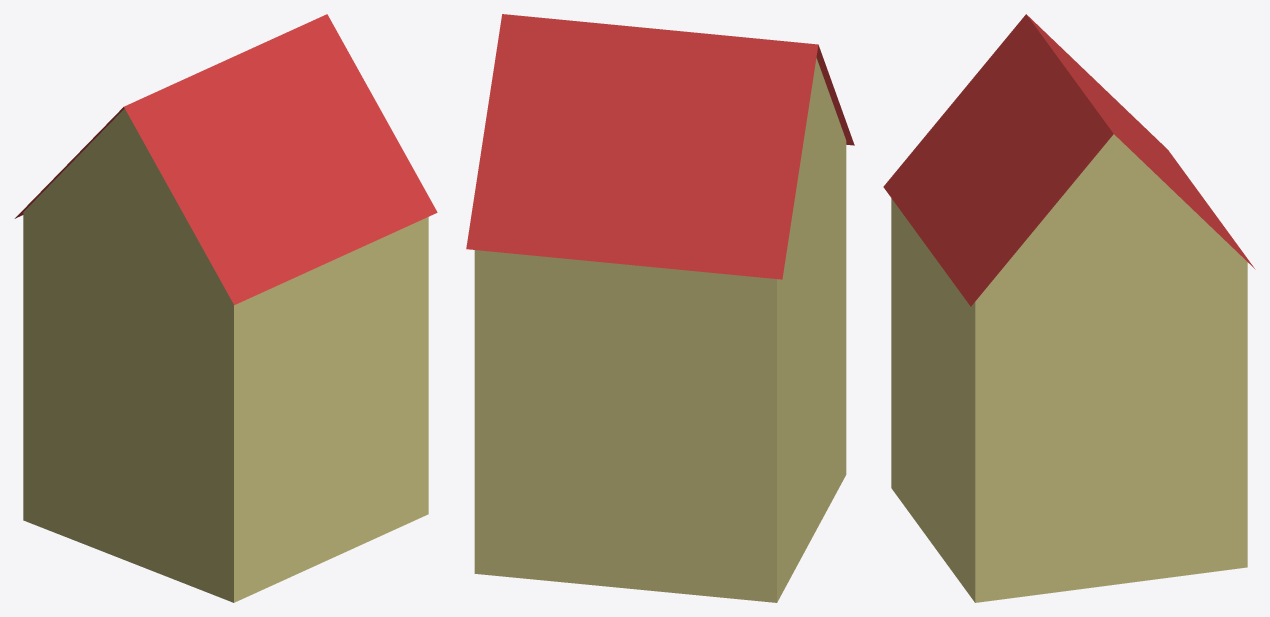
3 renders of one model, left to right at view 1: azimuth 30°, elevation 25°; view 2: azimuth 150°, elevation 25°; view 3: azimuth 270°, elevation 25°, orthographic. The views are drawn at different scales.
Size of the model in its own units: 14.3 by 14.32 by 19.26.
